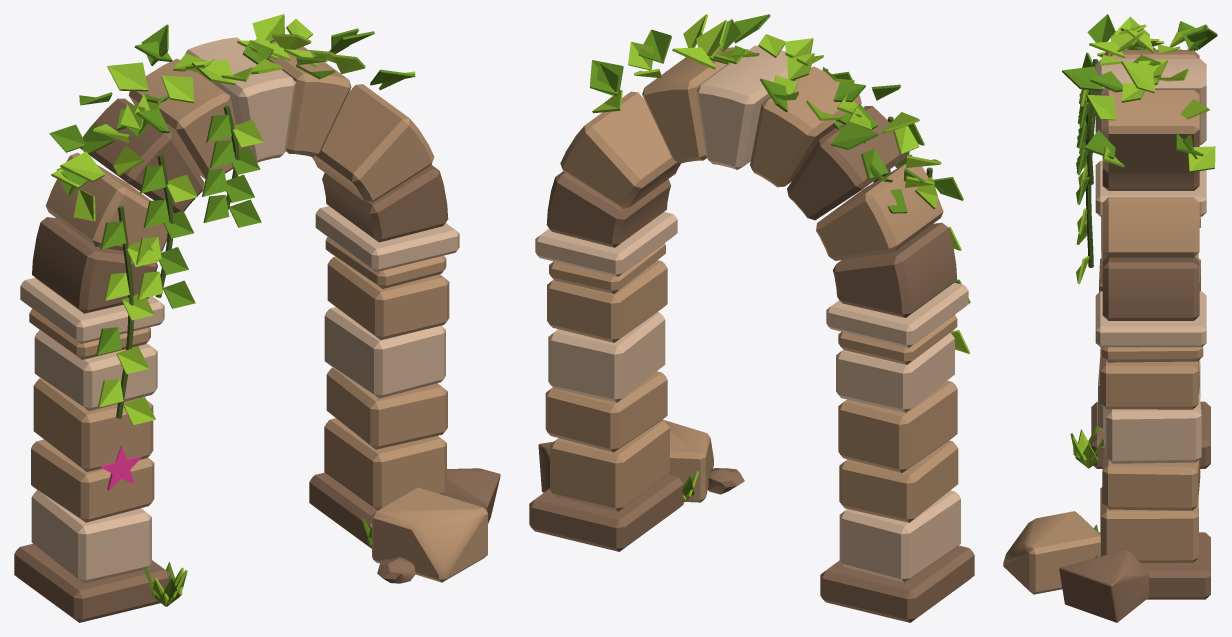
Rendered from arch__upper.glb.
3 renders of one model, left to right at view 1: azimuth 30°, elevation 25°; view 2: azimuth 150°, elevation 25°; view 3: azimuth 270°, elevation 25°, orthographic. The views are drawn at different scales.
Parts seen in each view (by area): view 1: Body; view 2: Body; view 3: Body.
Part boxes in pixels (x1,y1,x2,y2): Body: (14,14,500,622); Body: (529,14,974,622); Body: (1003,14,1217,622).
Bounding box in the file's own units: 1.97 × 2.29 × 0.93.
